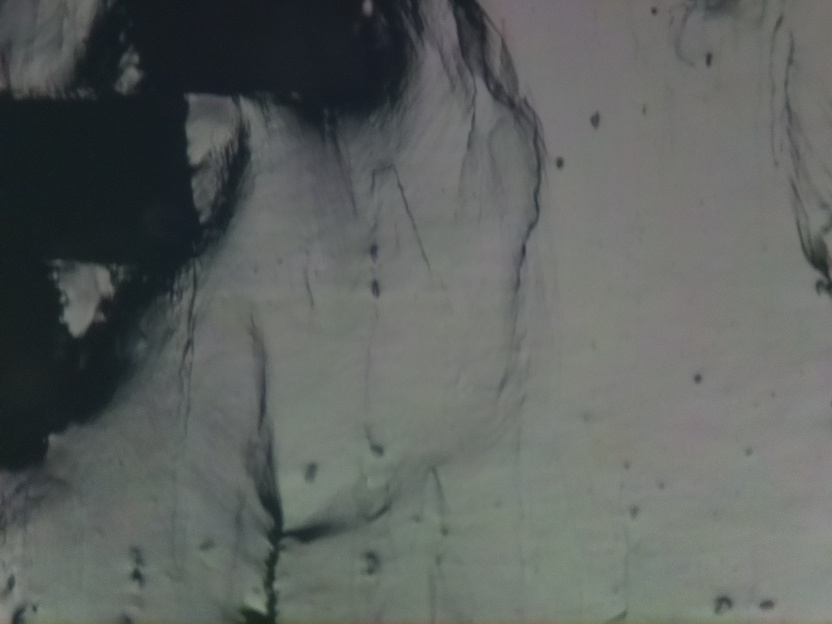crack: (0, 0, 422, 468), (511, 90, 552, 287), (242, 463, 285, 624)
